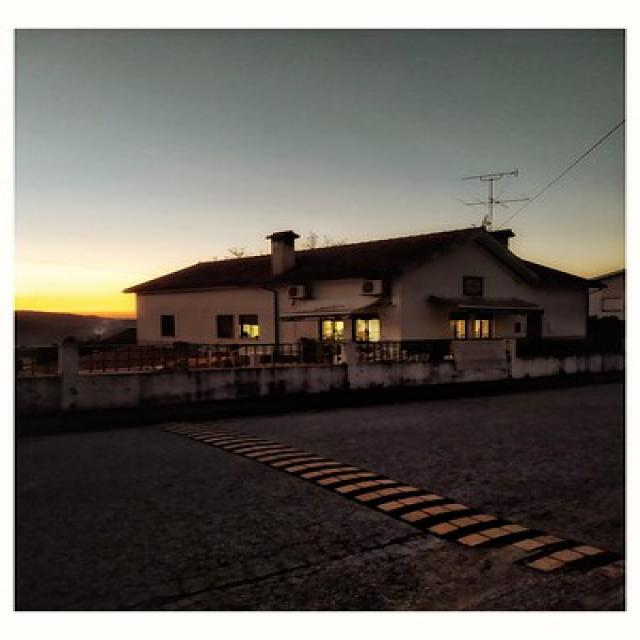Normal_building: (116, 223, 607, 366)
